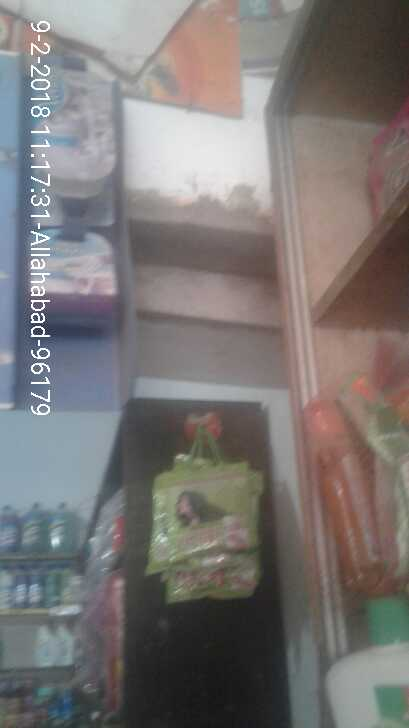reject: (175, 231, 273, 321)
